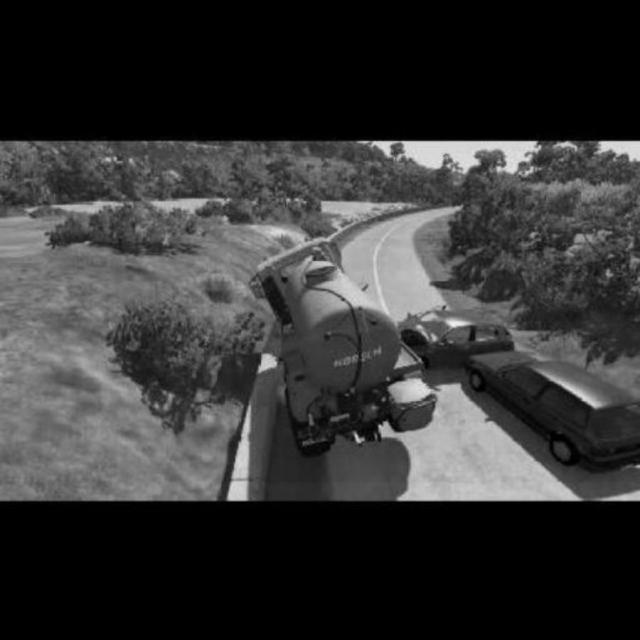accident: (256, 239, 640, 482)
